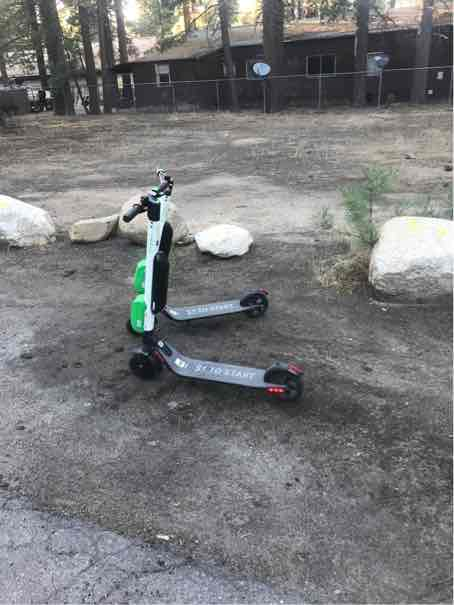scooter: (108, 159, 307, 413)
